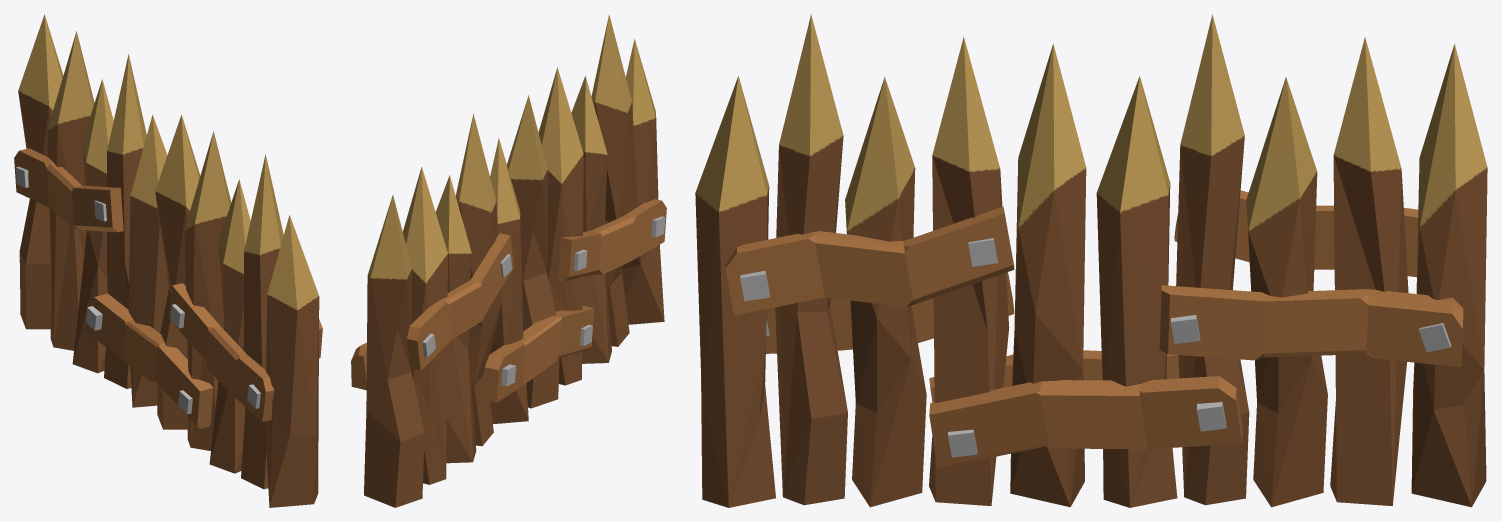
Rendered from Fence.fbx.
3 views of the same model, side by side, from view 1: azimuth 30°, elevation 25°; view 2: azimuth 150°, elevation 25°; view 3: azimuth 270°, elevation 25° (orthographic). The views are drawn at different scales.
Visible parts, largest first — view 1: Fence; view 2: Fence; view 3: Fence.
Part boxes in pixels (x1,y1,x2,y2): Fence: (14,14,322,507); Fence: (351,14,666,507); Fence: (695,14,1487,507).
Size of the model in its own units: 400 by 1594 by 2395.
1 material, 1 textured.
